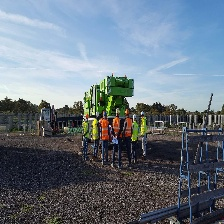person: (90, 110, 101, 162), (124, 106, 132, 163), (114, 105, 122, 161), (141, 111, 149, 159), (103, 110, 109, 166), (133, 114, 139, 168), (84, 112, 90, 163)
